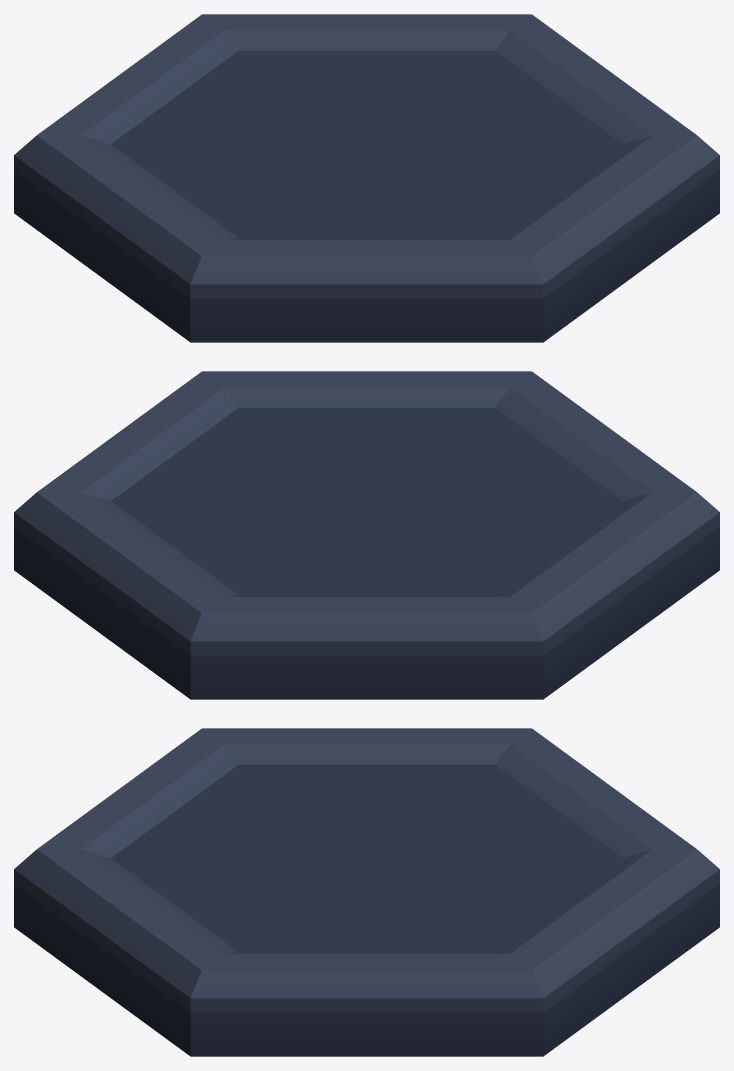
Rendered from Hexagon 01.FBX.
3 views of the same model, one above another, from view 1: azimuth 30°, elevation 25°; view 2: azimuth 150°, elevation 25°; view 3: azimuth 270°, elevation 25° (orthographic).
Parts seen in each view (by area): view 1: Hexagon 01; view 2: Hexagon 01; view 3: Hexagon 01.
Boxes of the visible parts, x1=… form: Hexagon 01: x1=14, y1=14, x2=719, y2=342; Hexagon 01: x1=14, y1=371, x2=719, y2=699; Hexagon 01: x1=14, y1=728, x2=719, y2=1056.
Size of the model in its own units: 280 by 39.42 by 323.
1 material, 1 textured.
